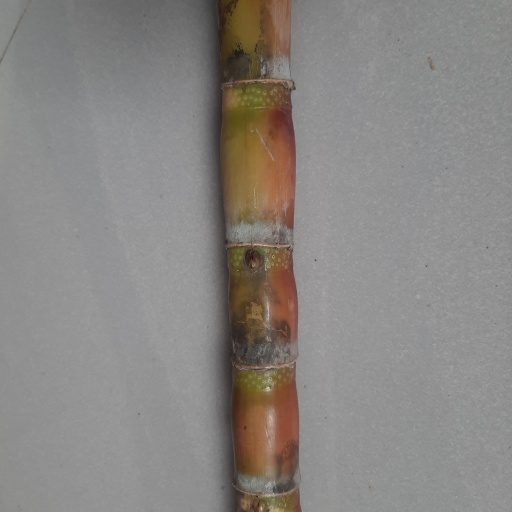Bud: (243, 249, 263, 273)
